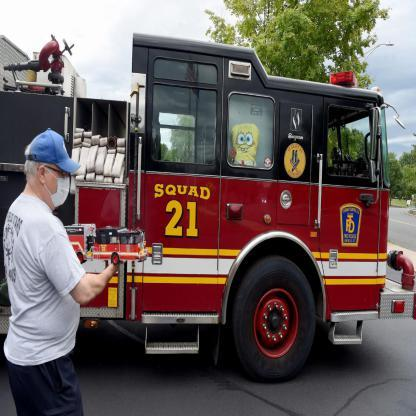fire-truck: (0, 28, 416, 388)
